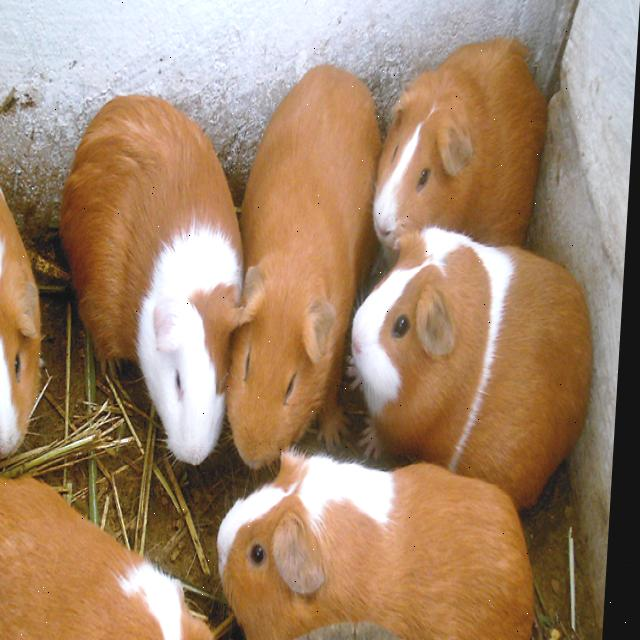guinea pig: (346, 212, 613, 503), (49, 90, 251, 473), (211, 443, 565, 640), (224, 48, 371, 457), (372, 32, 558, 252), (0, 127, 56, 453)
